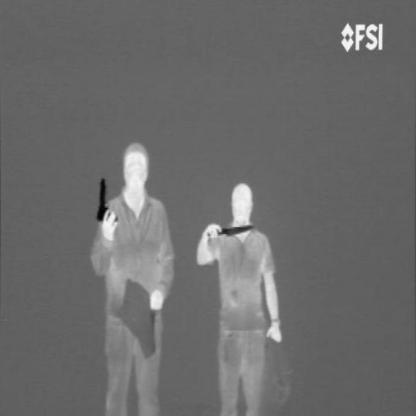weapon: (94, 174, 120, 228)
